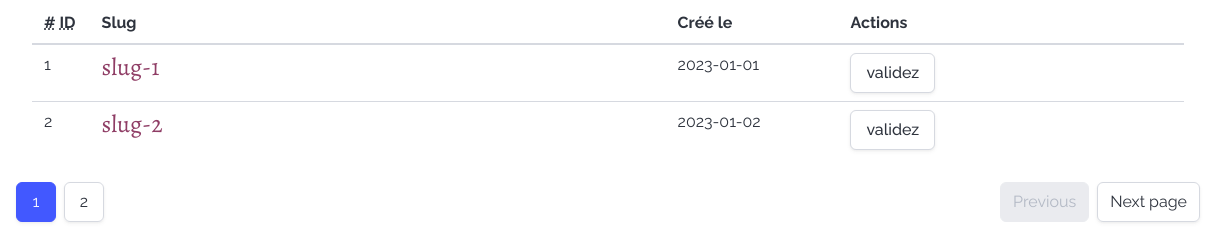
Test: PaginatedSearchDisplay › navigates to the next page
The width and height of the screenshot is (1217, 240).
Step 1. Click the button with test id "next-button" → x=1149, y=202, box [1097, 182, 1200, 222]
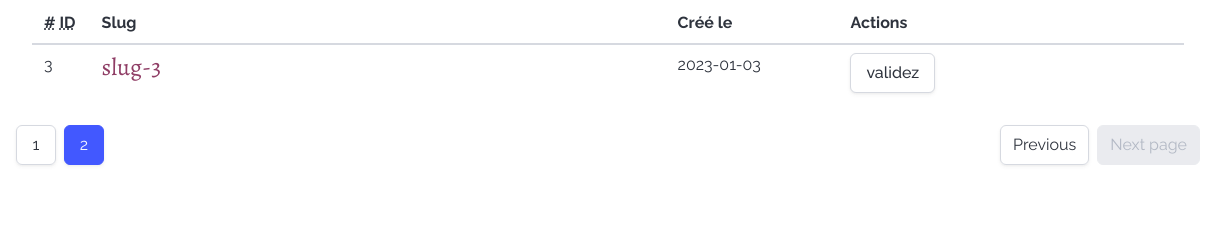
Check: the heading "slug-3" is shown, box [102, 51, 161, 83]
Check: the heading "slug-1" is gone
